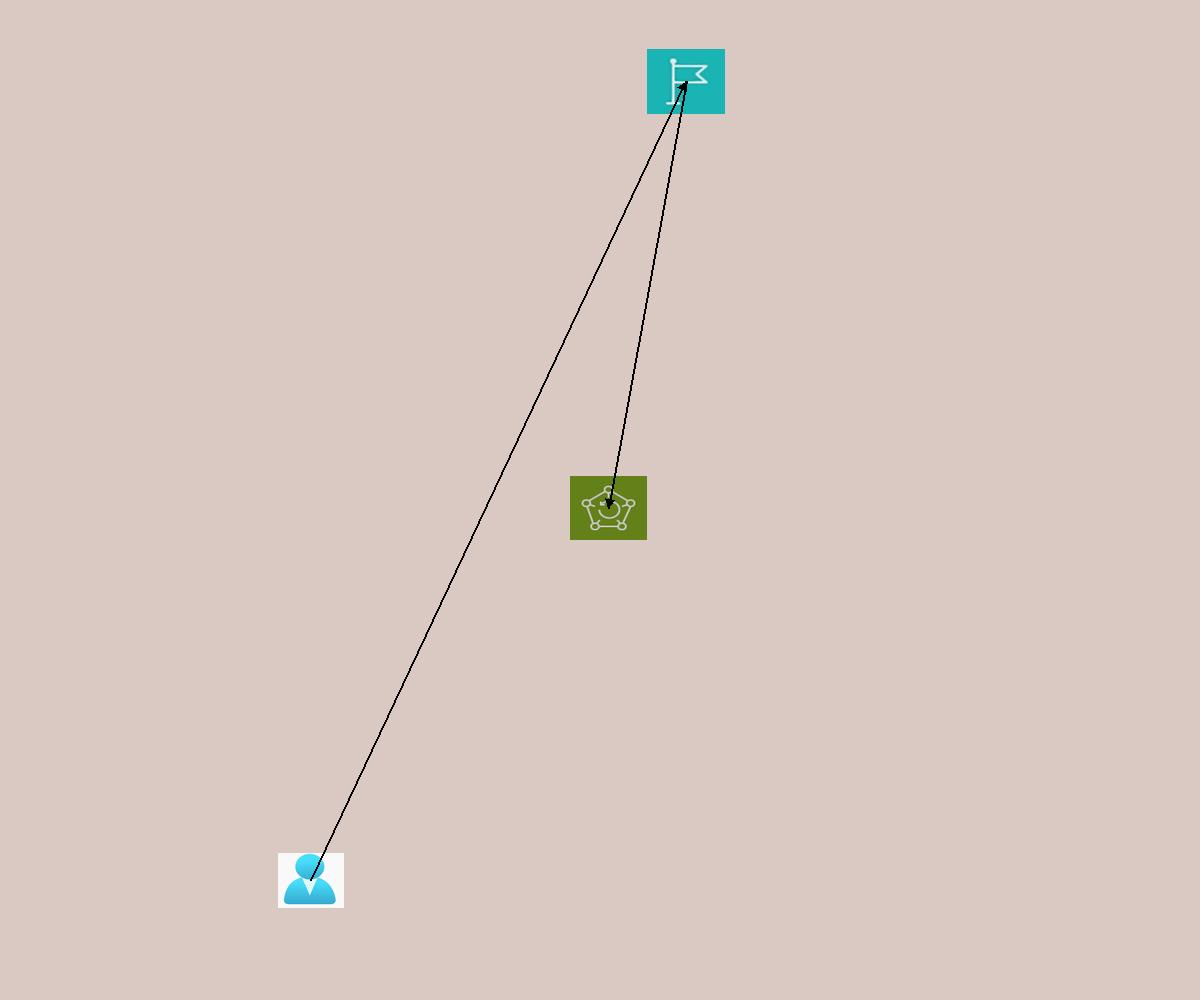AWS-Backup: (570, 476, 647, 540)
AWS-Region: (647, 49, 725, 114)
Azure_users: (278, 853, 344, 908)
